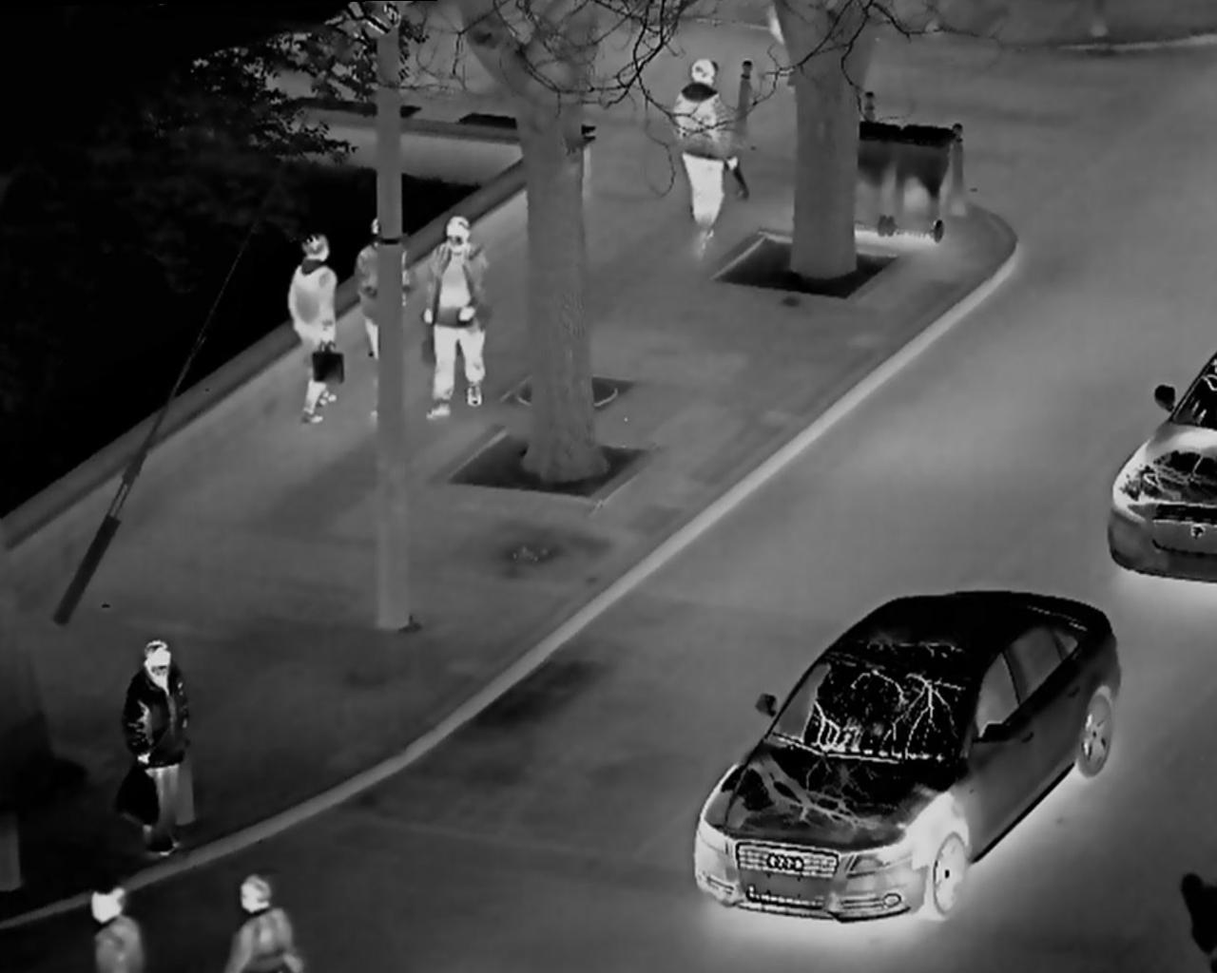person: (114, 630, 210, 853), (423, 204, 500, 429), (665, 48, 744, 263), (280, 218, 341, 421), (217, 868, 310, 973), (352, 214, 416, 360), (81, 878, 147, 973)
